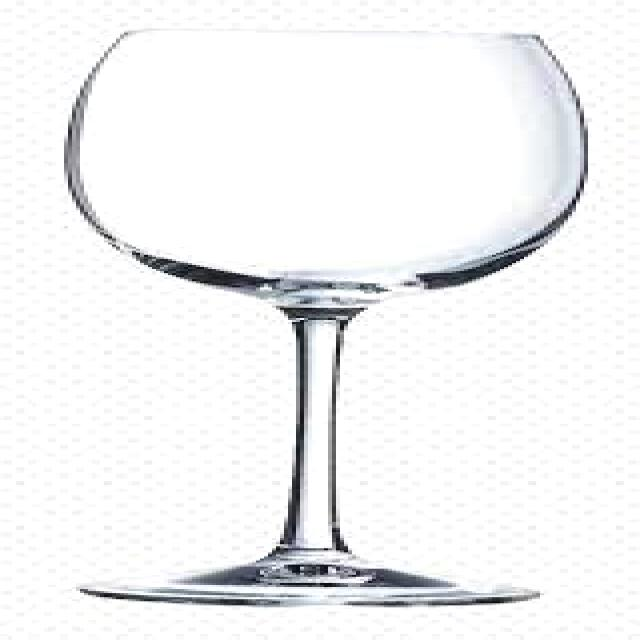Gelas: (43, 22, 607, 635)
